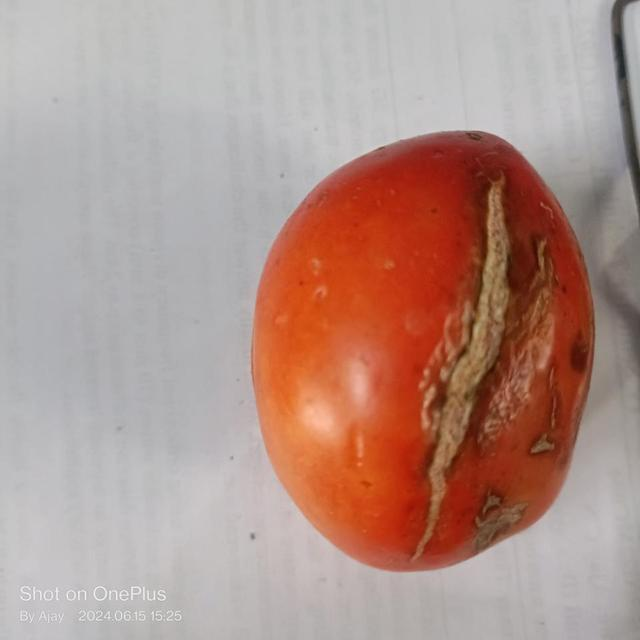Cracking Fruit: (161, 199, 510, 314)
